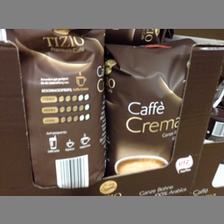coffee: (7, 29, 106, 189), (105, 39, 198, 175)
